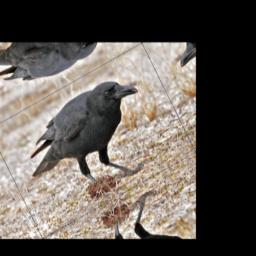Crow: (11, 67, 170, 220)
